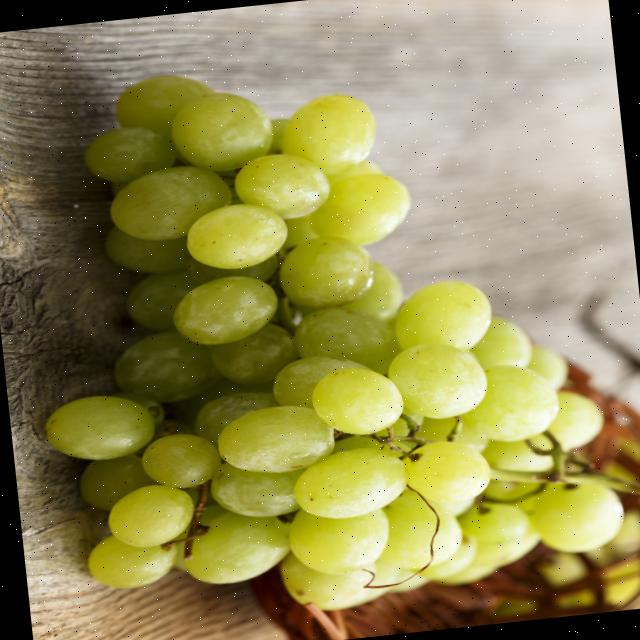grape: (45, 75, 640, 609)
